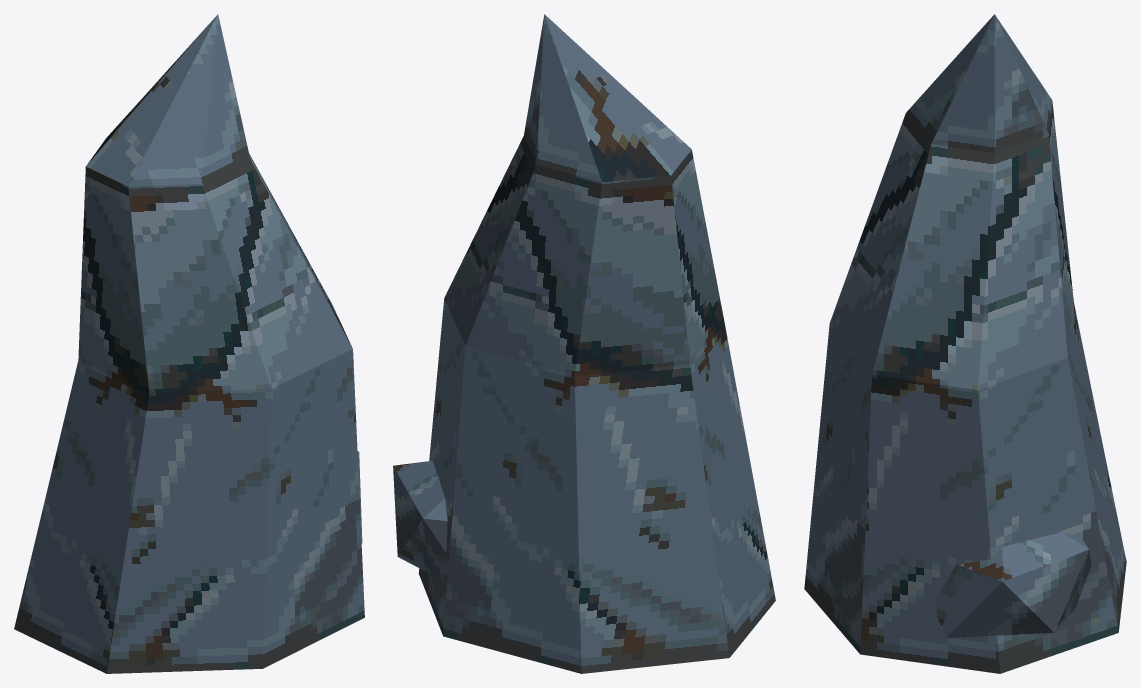
Rendered from pedra.glb.
3 renders of one model, left to right at view 1: azimuth 30°, elevation 25°; view 2: azimuth 150°, elevation 25°; view 3: azimuth 270°, elevation 25°, orthographic. The views are drawn at different scales.
Parts seen in each view (by area): view 1: pedreira_pedra; view 2: pedreira_pedra; view 3: pedreira_pedra.
Part boxes in pixels (left/top/right/bottom): pedreira_pedra: left=14, top=14, right=364, bottom=673; pedreira_pedra: left=393, top=14, right=775, bottom=673; pedreira_pedra: left=804, top=14, right=1126, bottom=673.
Bounding box in the file's own units: 0.797 × 1.3 × 0.6342.
1 material, 1 textured.
